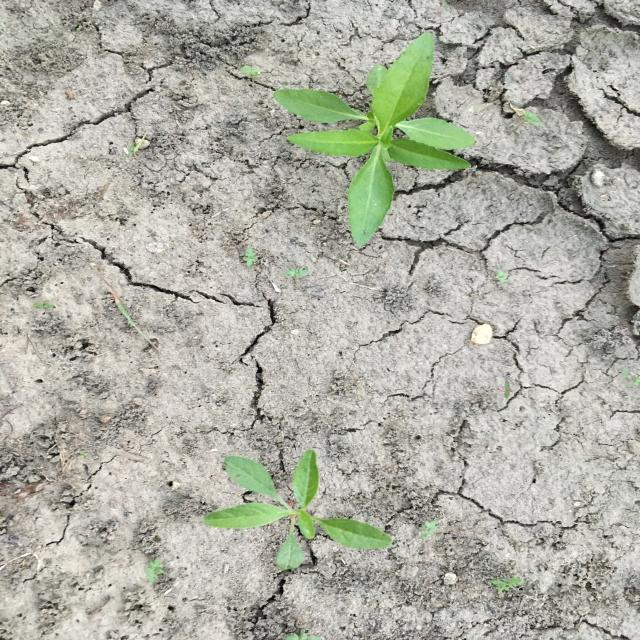Eclipta: (271, 30, 477, 249)
Waterhemp: (202, 448, 396, 573)
